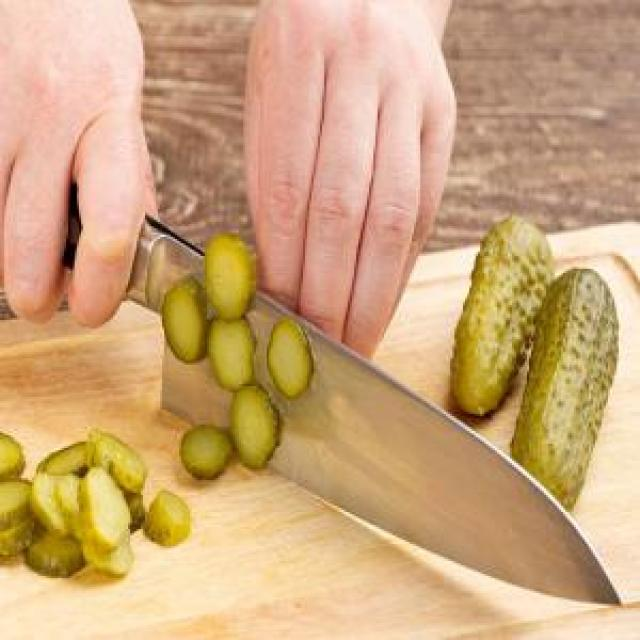knife: (0, 160, 624, 607)
